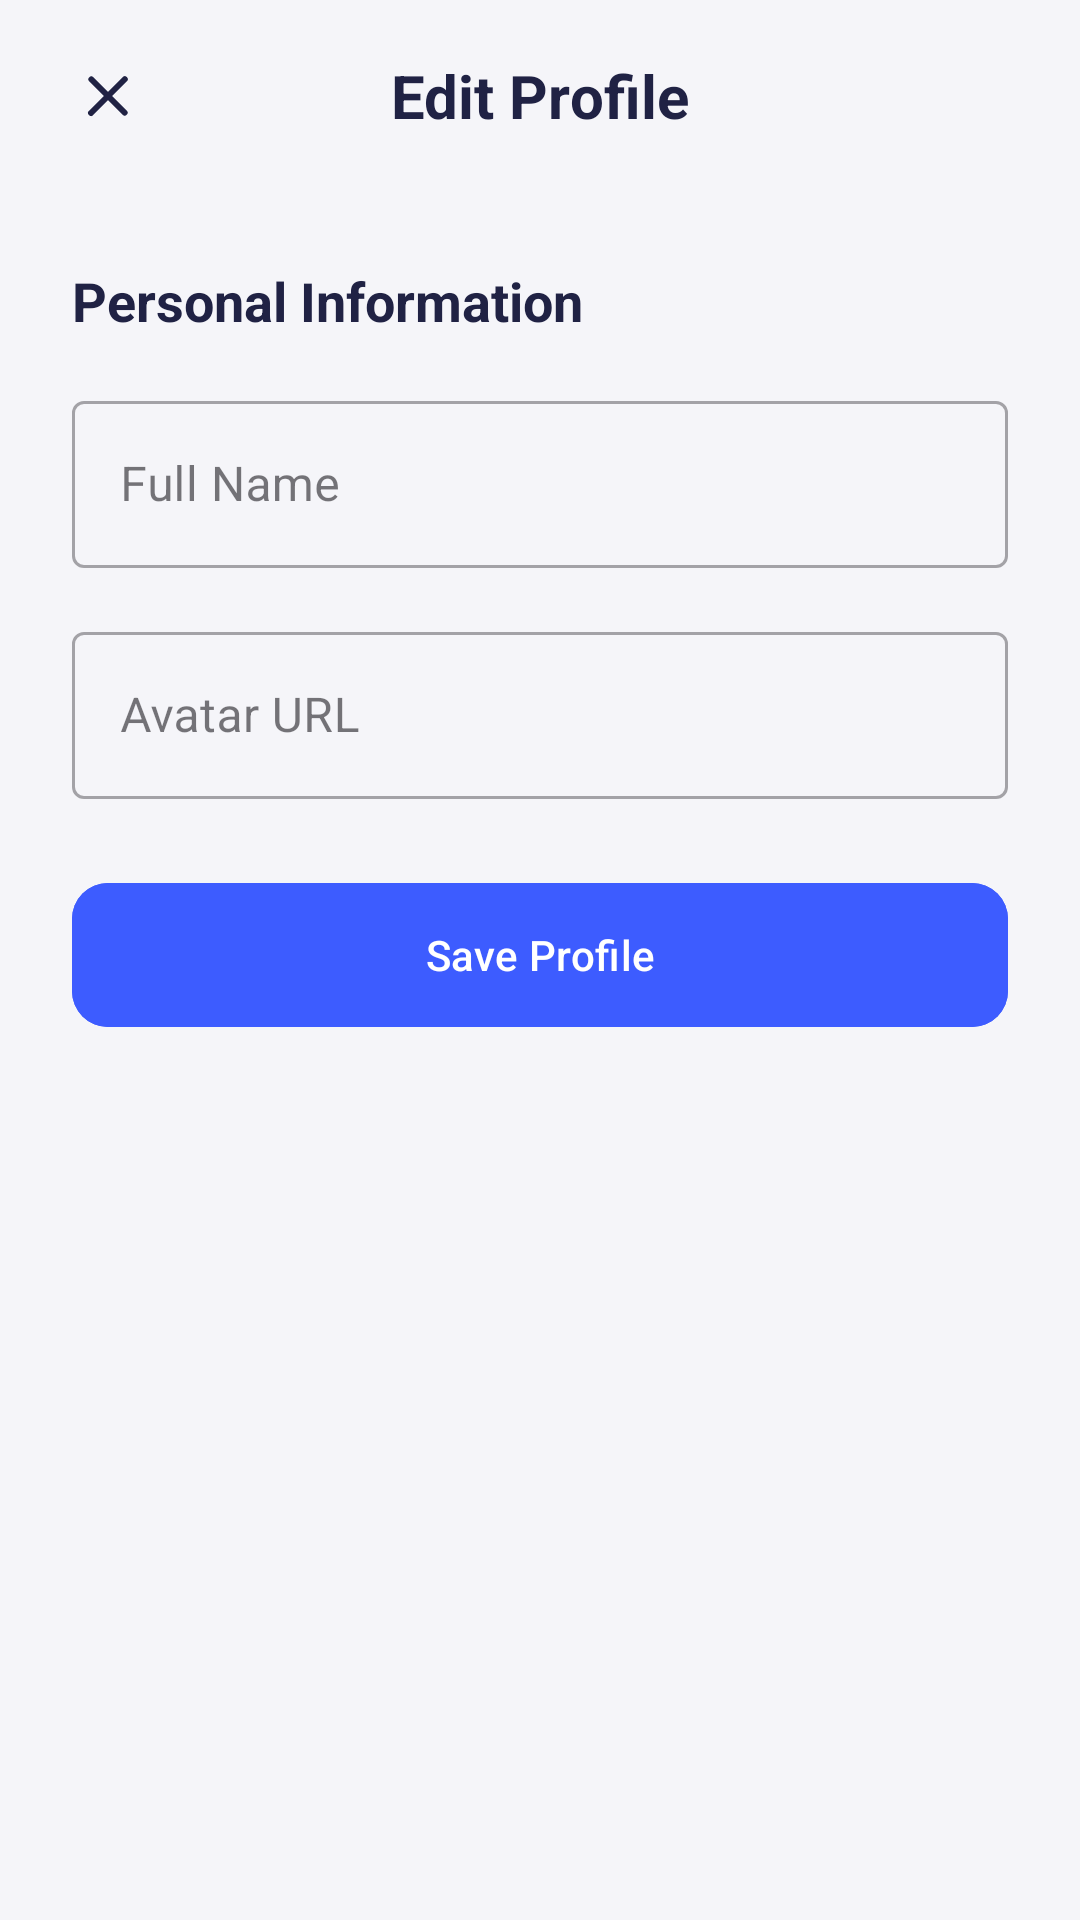

Named icons in this screenshot (1080 × 1920) and their bounding boxes, rect(x1, y1, x2, y2):
close: rect(88, 76, 128, 116)
